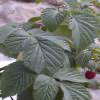Raspberry leaf: (22, 35, 64, 78), (70, 12, 99, 61), (56, 79, 93, 100), (40, 6, 69, 32), (53, 66, 91, 84), (32, 75, 58, 100)
